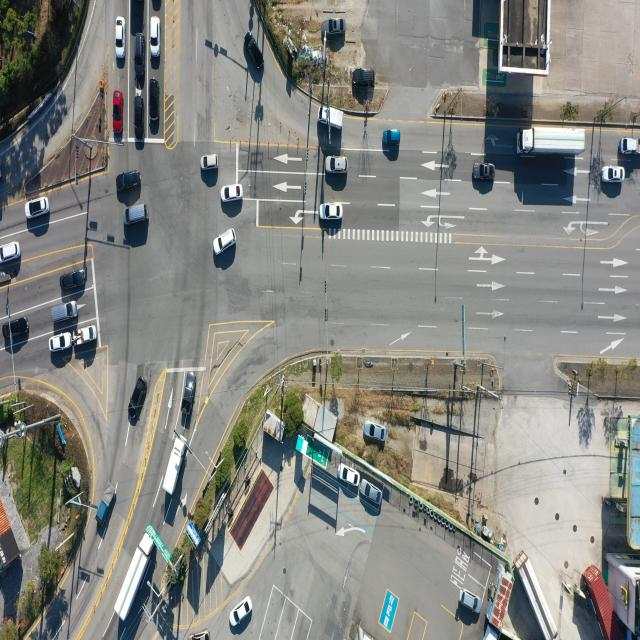car: (130, 376, 148, 422), (183, 370, 197, 418), (229, 598, 250, 629), (459, 588, 482, 616), (213, 229, 235, 257), (148, 77, 160, 126), (61, 270, 87, 292), (246, 34, 262, 69), (359, 481, 382, 505), (115, 170, 140, 192), (124, 203, 149, 225), (3, 321, 29, 342), (53, 300, 79, 321), (27, 197, 50, 220), (112, 91, 123, 137), (136, 32, 146, 81), (48, 333, 72, 353), (0, 242, 20, 266), (364, 421, 386, 442), (339, 464, 360, 486), (134, 94, 144, 138), (115, 17, 125, 59), (473, 163, 496, 181), (324, 157, 347, 175), (352, 68, 375, 86), (221, 183, 242, 202), (320, 203, 342, 221), (150, 18, 160, 57), (604, 167, 626, 183), (326, 19, 346, 36), (202, 156, 219, 172), (383, 129, 401, 144), (151, 0, 160, 11)
medium_truck: (116, 525, 158, 621), (519, 548, 561, 638), (518, 128, 587, 156), (161, 434, 186, 499)
small_truck: (97, 489, 115, 524), (322, 106, 344, 129), (76, 322, 98, 342), (620, 137, 640, 155)
